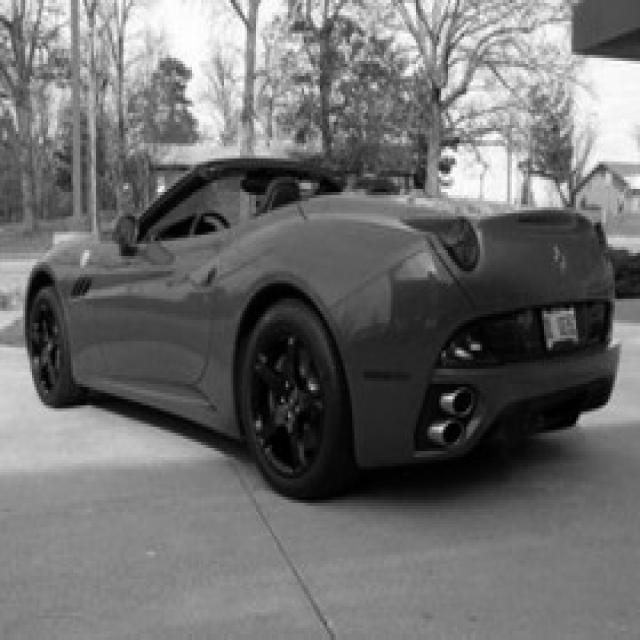car: (21, 152, 622, 500)
